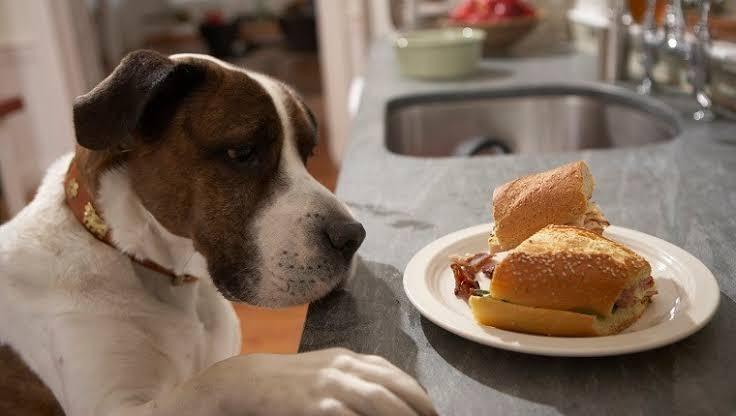adult_dog: (0, 50, 441, 415)
